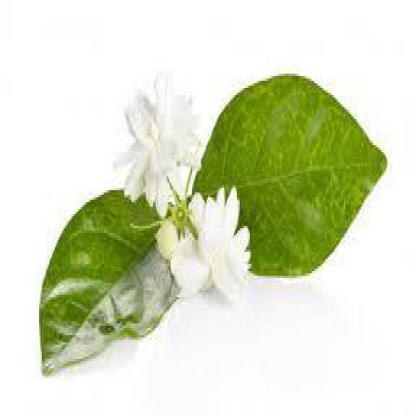Melati: (86, 49, 208, 194), (159, 187, 256, 313)
